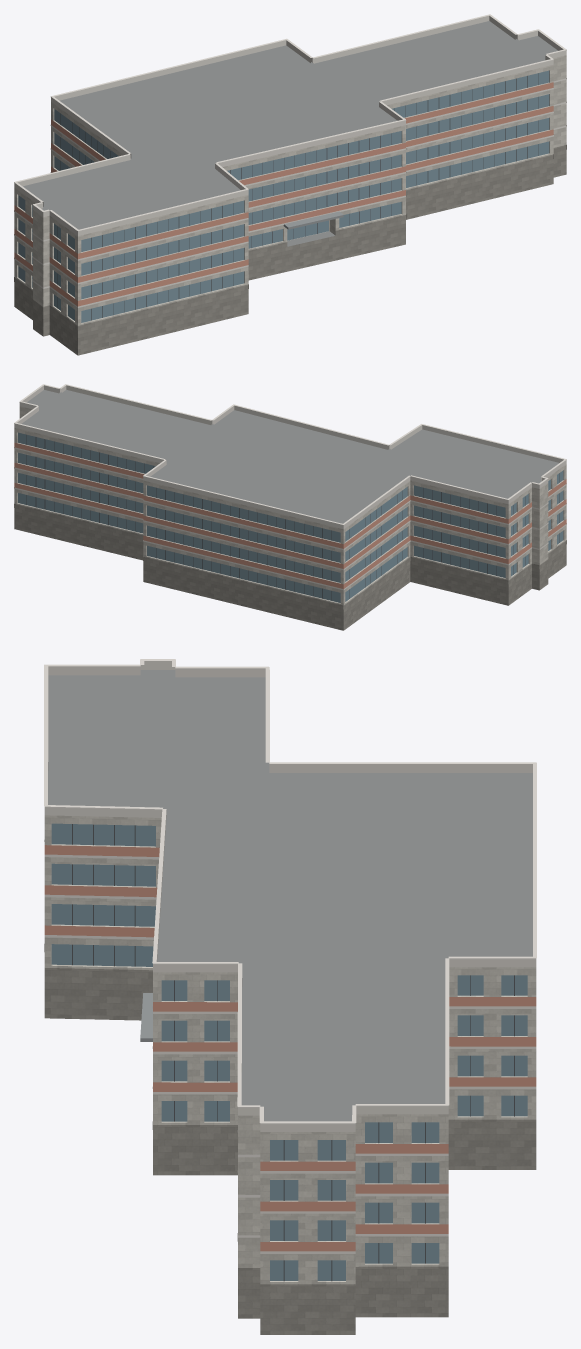
The picture shows the model from 3 angles, top to bottom: view 1: azimuth 30°, elevation 25°; view 2: azimuth 150°, elevation 25°; view 3: azimuth 270°, elevation 25°; orthographic projection. The views are drawn at different scales.
Parts seen in each view (by area): view 1: arts2__roof, arts2__glass, arts2__wall, arts2__base, arts2__wall2, arts2__parapet, arts2__trim, arts2__frame; view 2: arts2__roof, arts2__glass, arts2__wall, arts2__base, arts2__wall2, arts2__trim, arts2__parapet, arts2__frame; view 3: arts2__roof, arts2__wall, arts2__glass, arts2__base, arts2__wall2, arts2__trim, arts2__parapet, arts2__frame.
Boxes of the visible parts, x1,y1,x2,y2 form: arts2__roof: (23,21,557,246); arts2__glass: (18,70,549,322); arts2__wall: (14,55,566,330); arts2__base: (14,145,566,355); arts2__wall2: (14,82,553,306); arts2__parapet: (14,15,566,235); arts2__trim: (14,14,566,307); arts2__frame: (57,73,538,320); arts2__roof: (22,390,558,523); arts2__glass: (18,432,563,602); arts2__wall: (14,406,566,609); arts2__base: (14,504,566,630); arts2__wall2: (14,442,566,589); arts2__trim: (14,384,566,590); arts2__parapet: (14,385,566,529); arts2__frame: (26,435,559,600); arts2__roof: (48,670,532,1121); arts2__wall: (44,815,536,1284); arts2__glass: (51,823,527,1280); arts2__base: (44,944,536,1334); arts2__wall2: (44,845,536,1251); arts2__trim: (44,659,536,1253); arts2__parapet: (44,661,536,1131); arts2__frame: (72,824,514,1281).
Bounding box in the file's own units: 94.13 × 20.05 × 42.28.
10 materials, 2 textured.
